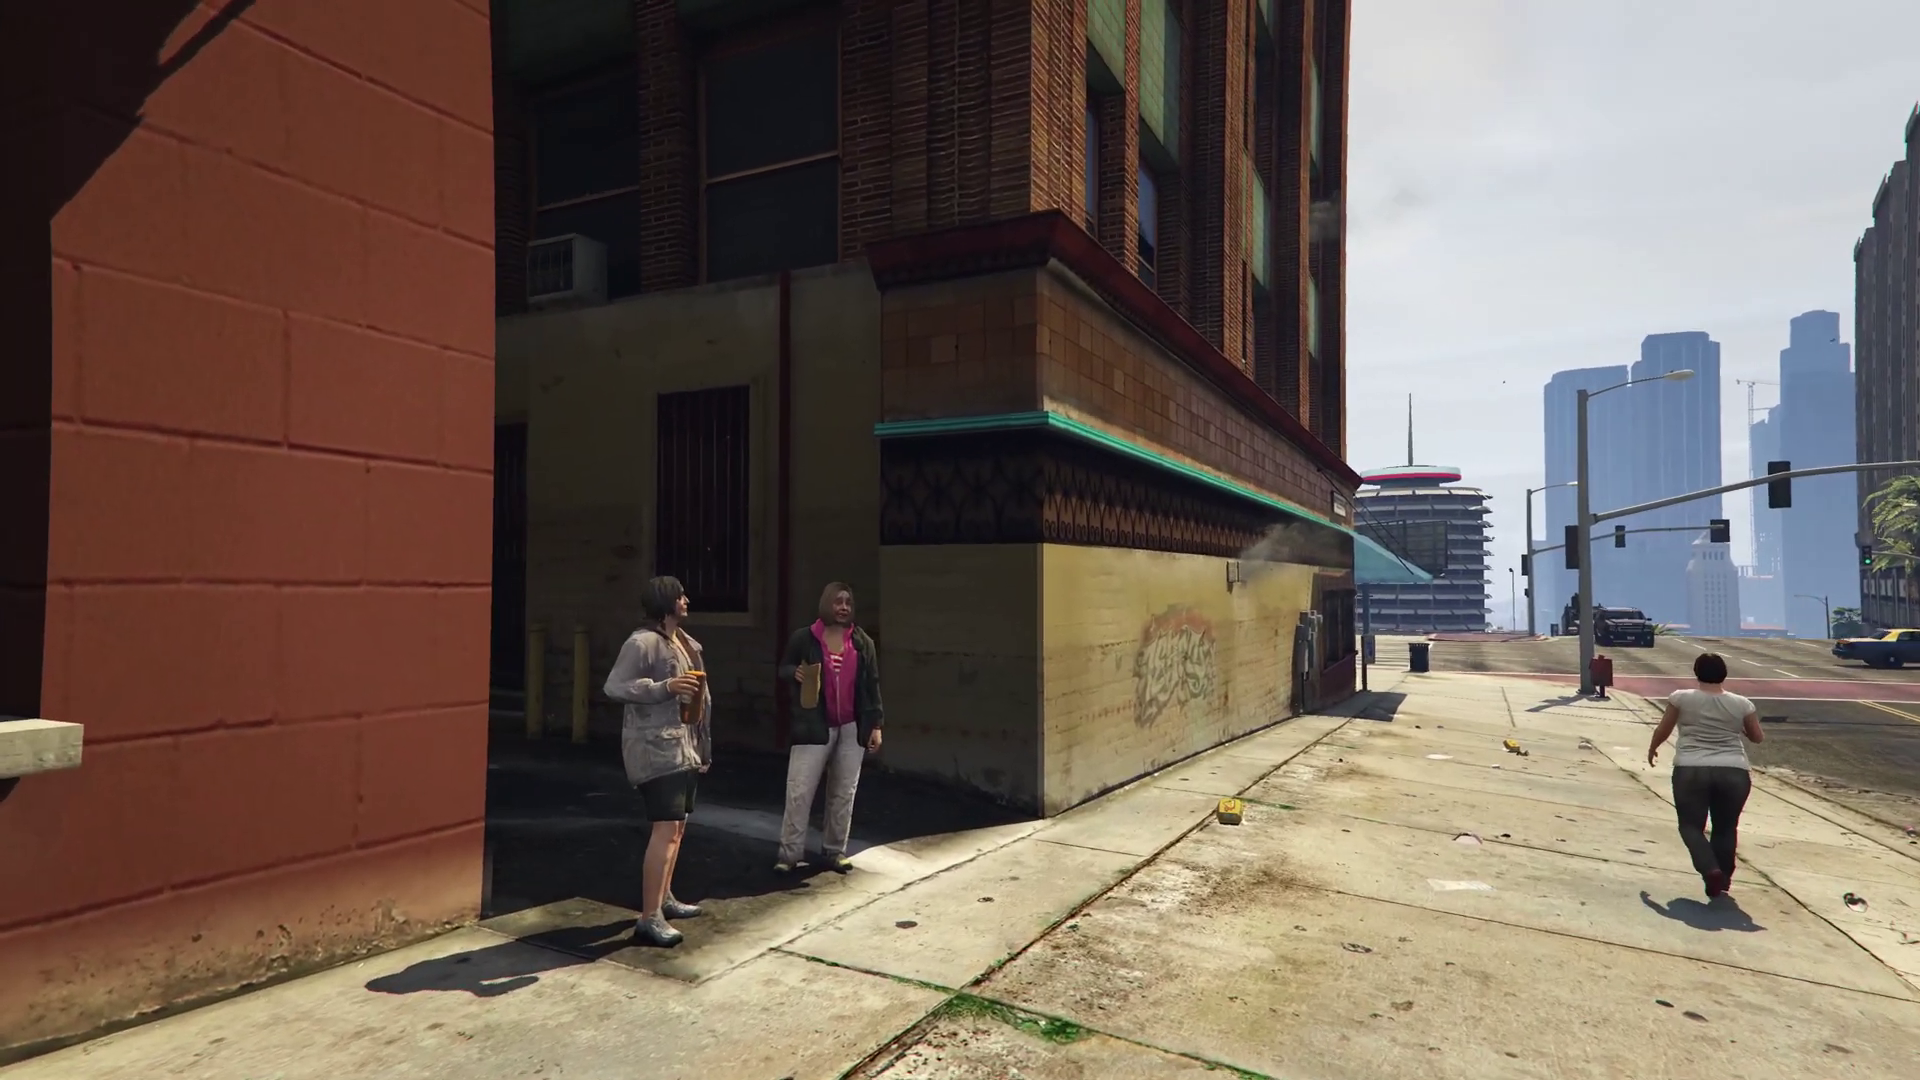car: (1832, 628, 1920, 669), (1594, 607, 1655, 646)
person: (601, 571, 713, 949), (781, 582, 882, 879), (1641, 653, 1760, 899)
traffic light: (1768, 460, 1792, 508), (1564, 526, 1579, 571), (1712, 520, 1729, 543), (1615, 525, 1624, 549), (1522, 552, 1529, 575)
